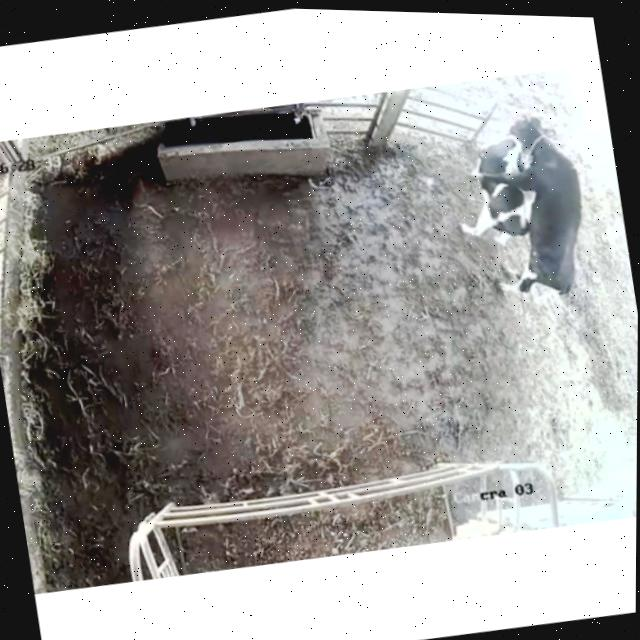ride: (466, 103, 608, 322)
